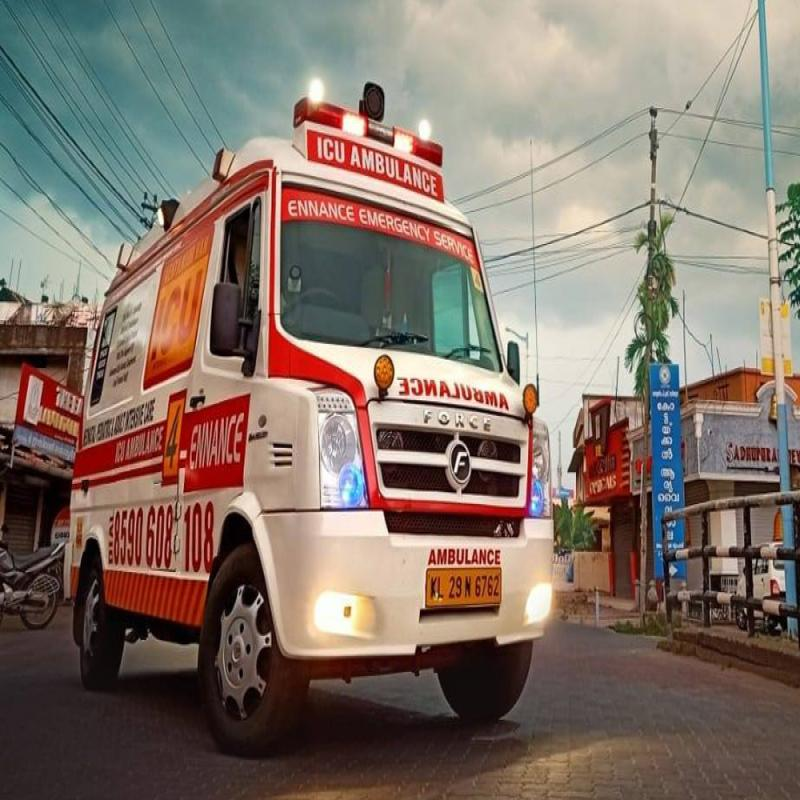ambulance: (78, 136, 539, 740)
